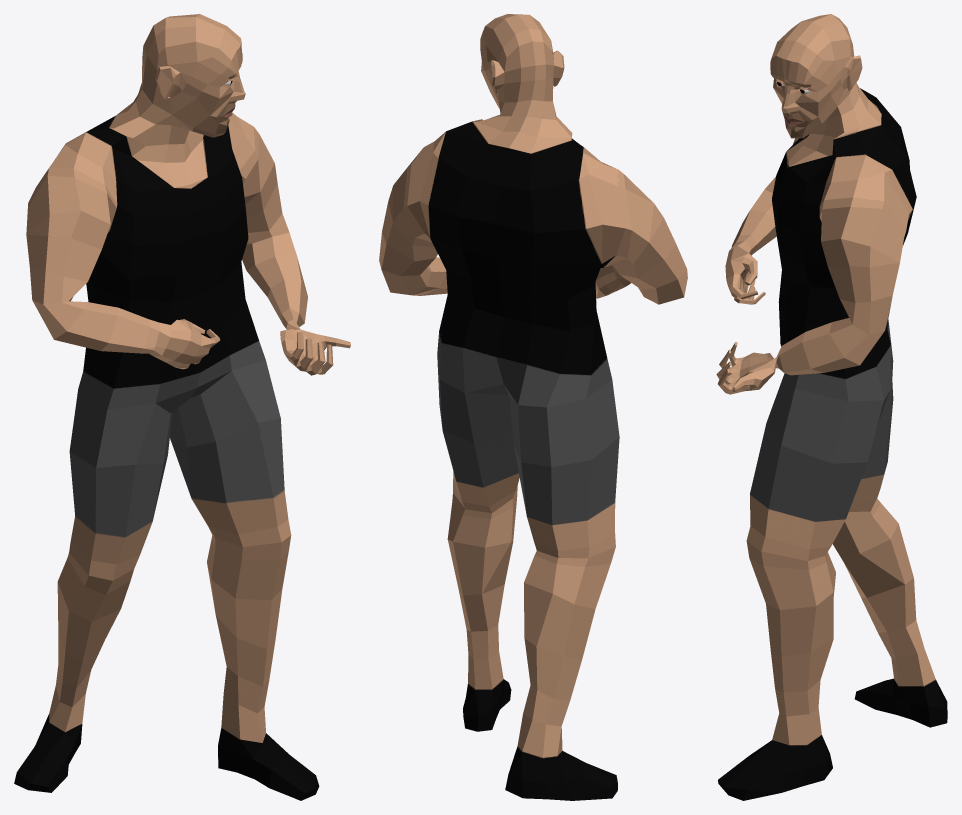
File: PlayerIdle(138).obj
The picture shows the model from 3 angles, left to right: view 1: azimuth 30°, elevation 25°; view 2: azimuth 150°, elevation 25°; view 3: azimuth 270°, elevation 25°; orthographic projection. The views are drawn at different scales.
Parts seen in each view (by area): view 1: Plane002; view 2: Plane002; view 3: Plane002.
Part boxes in pixels (<box>): Plane002: <box>14,14,350,800</box>; Plane002: <box>379,14,687,800</box>; Plane002: <box>716,14,947,800</box>.
Size of the model in its own units: 700 by 1792 by 508.
